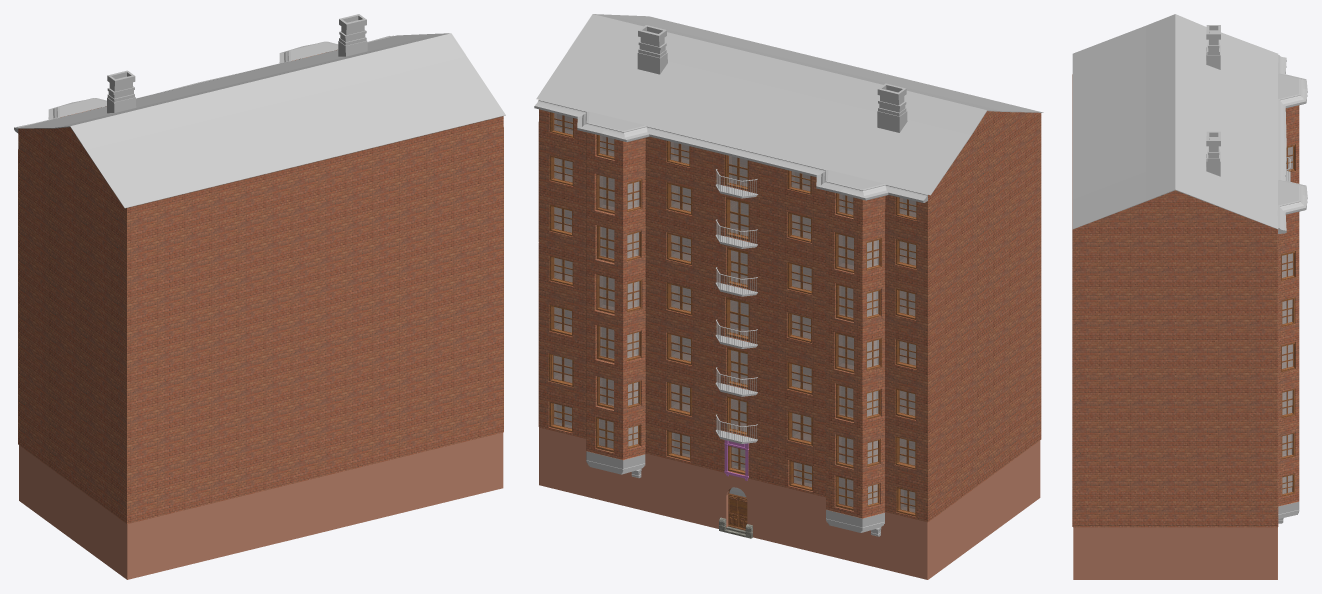
The model's file is Apartment3_Hi.fbx.
The picture shows the model from 3 angles, left to right: view 1: azimuth 30°, elevation 25°; view 2: azimuth 150°, elevation 25°; view 3: azimuth 270°, elevation 25°; orthographic projection. The views are drawn at different scales.
Visible parts, largest first — view 1: Apartment3, FullHouse.139, Apartment3.008, Apartment3.004, Apartment3.006, Apartment3.003, Apartment3.007, Apartment3.005, Apartment3.002, 5th_L_C.007; view 2: Apartment3, FullHouse.139, Apartment3.008, Apartment3.006, Apartment3.004, Cube.006, Apartment3.002, 5th_L_C.007, Apartment3.005, Apartment3.003, Apartment3.007, Apartment3.001 (+26 smaller); view 3: Apartment3, FullHouse.139, Apartment3.002, 5th_L_C.007, FullHouse.216, FullHouse.360, FullHouse.357, FullHouse.220, FullHouse.221, Apartment3.001.
Part boxes in pixels (x1=…): Apartment3: x1=18, y1=49, x2=503, y2=523; FullHouse.139: x1=14, y1=33, x2=505, y2=208; Apartment3.008: x1=19, y1=445, x2=168, y2=579; Apartment3.004: x1=338, y1=457, x2=399, y2=528; Apartment3.006: x1=225, y1=485, x2=286, y2=555; Apartment3.003: x1=400, y1=443, x2=457, y2=513; Apartment3.007: x1=169, y1=500, x2=225, y2=569; Apartment3.005: x1=286, y1=473, x2=338, y2=540; Apartment3.002: x1=457, y1=432, x2=503, y2=499; 5th_L_C.007: x1=107, y1=14, x2=367, y2=113; Apartment3: x1=538, y1=109, x2=1041, y2=522; FullHouse.139: x1=534, y1=14, x2=1043, y2=202; Apartment3.008: x1=885, y1=440, x2=1040, y2=579; Apartment3.006: x1=762, y1=482, x2=826, y2=554; Apartment3.004: x1=645, y1=453, x2=708, y2=526; Cube.006: x1=715, y1=169, x2=758, y2=443; Apartment3.002: x1=539, y1=427, x2=586, y2=496; 5th_L_C.007: x1=637, y1=25, x2=907, y2=132; Apartment3.005: x1=709, y1=469, x2=762, y2=539; Apartment3.003: x1=587, y1=453, x2=645, y2=510; Apartment3.007: x1=826, y1=512, x2=884, y2=569; Apartment3.001: x1=586, y1=451, x2=884, y2=536; Apartment3: x1=1072, y1=74, x2=1299, y2=527; FullHouse.139: x1=1072, y1=14, x2=1307, y2=233; Apartment3.002: x1=1073, y1=527, x2=1277, y2=579; 5th_L_C.007: x1=1206, y1=25, x2=1220, y2=176; FullHouse.216: x1=1281, y1=342, x2=1295, y2=372; FullHouse.360: x1=1281, y1=251, x2=1295, y2=280; FullHouse.357: x1=1281, y1=297, x2=1294, y2=326; FullHouse.220: x1=1281, y1=388, x2=1294, y2=417; FullHouse.221: x1=1281, y1=432, x2=1294, y2=459; Apartment3.001: x1=1278, y1=501, x2=1299, y2=523.
Bounding box in the file's own units: 28.35 × 30.79 × 16.06.
